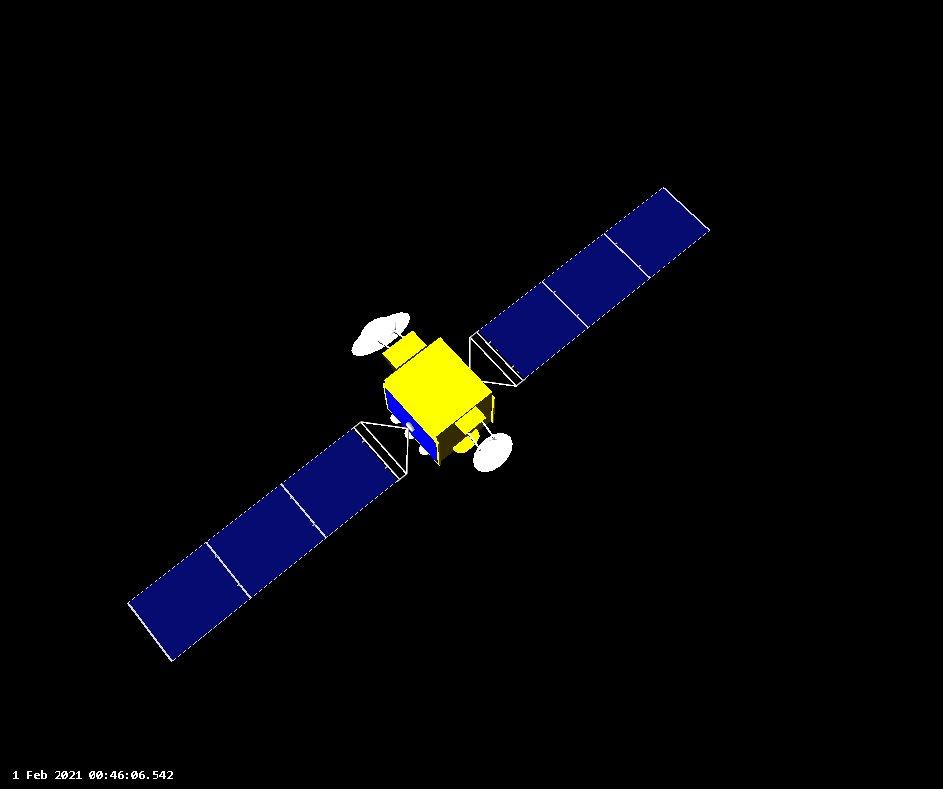antenna: (347, 310, 413, 358), (471, 431, 513, 474), (356, 317, 398, 345)
body: (381, 334, 499, 471)
solar: (120, 420, 410, 666), (464, 180, 714, 389)
